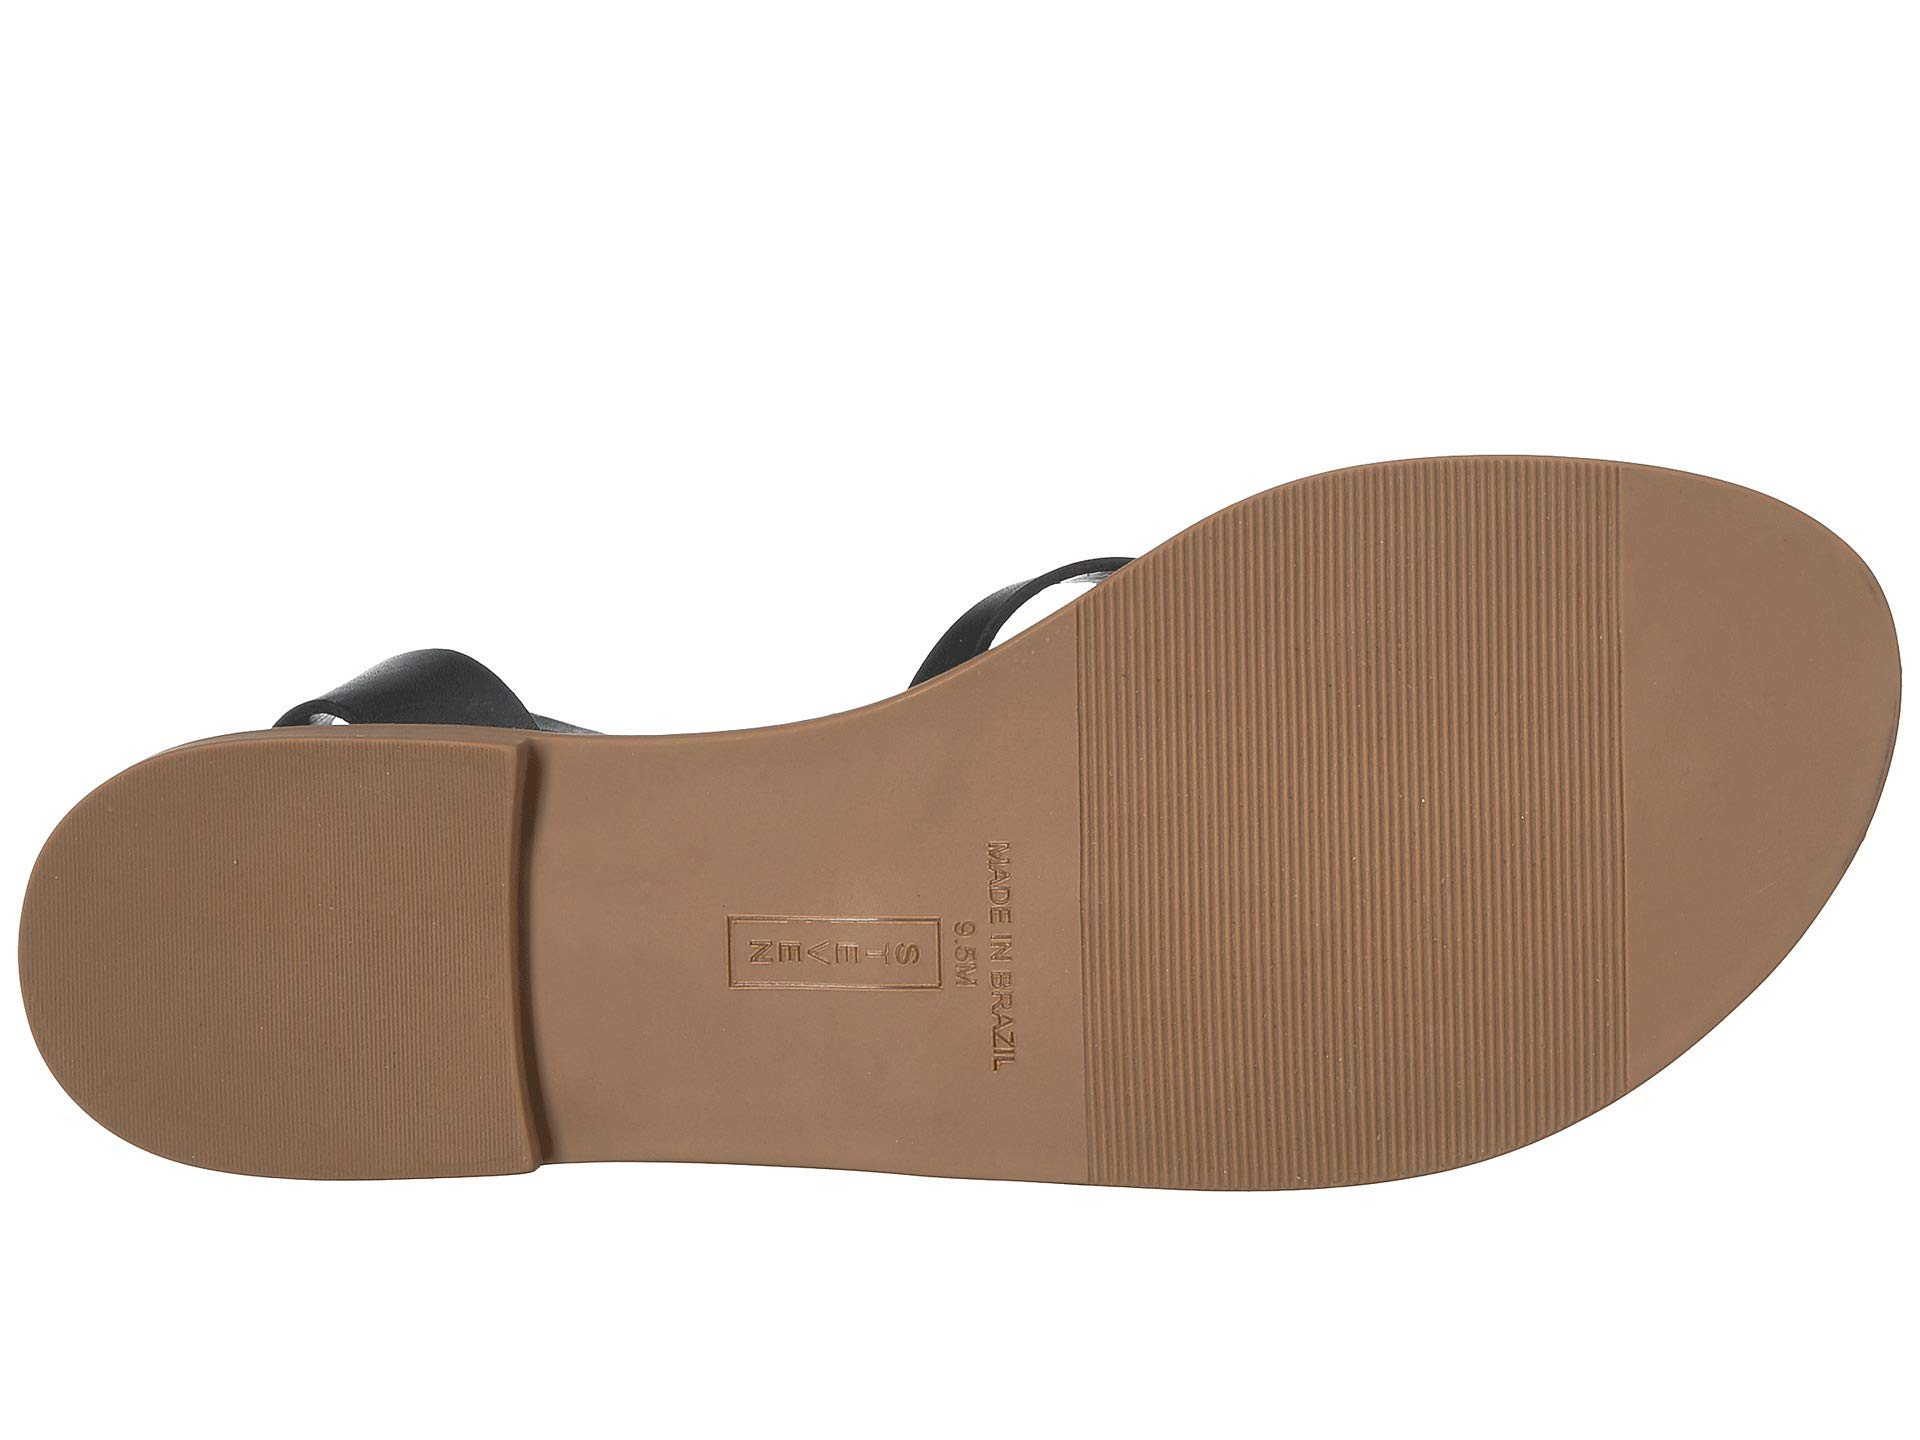line: (1157, 620, 1553, 1045), (145, 815, 422, 1094), (1135, 1047, 1276, 1196), (1361, 475, 1500, 616), (39, 883, 145, 1019)
quad: (698, 889, 957, 1009)
text: (698, 889, 957, 1009), (937, 835, 1043, 1075)
